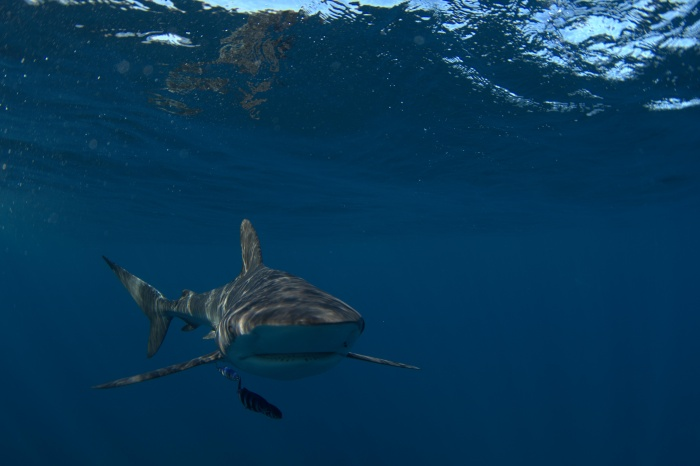Sedoso: (77, 210, 442, 406)
